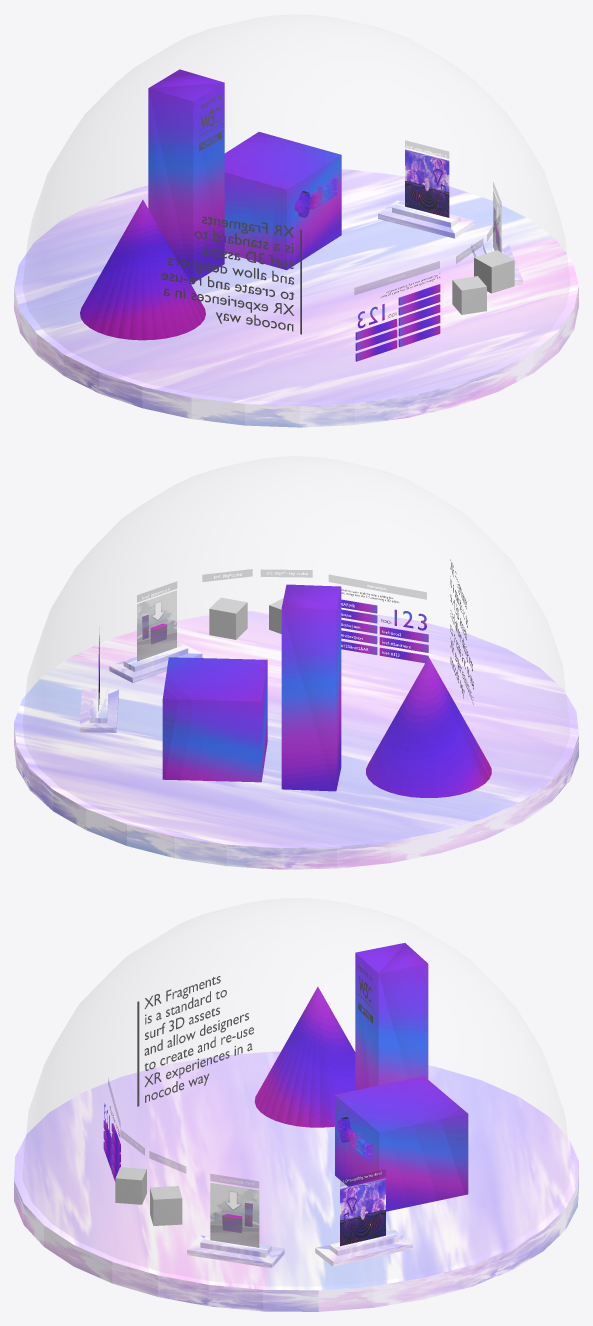
3 renders of one model, top to bottom at view 1: azimuth 30°, elevation 25°; view 2: azimuth 150°, elevation 25°; view 3: azimuth 270°, elevation 25°, orthographic.
Visible parts, largest first — view 1: floorstone, primitives, cube, Text.001, door, step, cube.001, cube.002, logo_nlnet, title_bg.003, step.001; view 2: floorstone, primitives, cube, door.001, step, step.001, cube.001, Text.001, title_bg.003; view 3: floorstone, primitives, cube, door.001, Text.001, door, step.001, step, cube.001, cube.002, logo_nlnet.
Boxes of the visible parts, <box> form: floorstone: <box>14,169,578,427</box>; primitives: <box>80,69,224,340</box>; cube: <box>224,132,341,270</box>; Text.001: <box>161,216,294,331</box>; door: <box>405,149,449,217</box>; step: <box>378,200,474,238</box>; cube.001: <box>474,250,514,293</box>; cube.002: <box>452,276,486,314</box>; logo_nlnet: <box>294,177,338,217</box>; title_bg.003: <box>355,261,439,294</box>; step.001: <box>471,242,522,285</box>; floorstone: <box>14,610,578,869</box>; primitives: <box>281,584,491,797</box>; cube: <box>162,657,267,782</box>; door.001: <box>137,590,176,661</box>; step: <box>79,688,118,732</box>; step.001: <box>109,642,202,682</box>; cube.001: <box>209,597,247,639</box>; Text.001: <box>450,559,473,704</box>; title_bg.003: <box>329,575,426,598</box>; floorstone: <box>14,1051,578,1311</box>; primitives: <box>254,943,428,1127</box>; cube: <box>335,1076,468,1211</box>; door.001: <box>210,1183,259,1247</box>; Text.001: <box>144,976,253,1102</box>; door: <box>340,1178,385,1246</box>; step.001: <box>187,1235,284,1268</box>; step: <box>315,1230,412,1266</box>; cube.001: <box>150,1186,182,1225</box>; cube.002: <box>115,1167,146,1204</box>; logo_nlnet: <box>337,1117,373,1160</box>.
Size of what is drawn, in the model's own units: 20.66 by 10.86 by 20.66.
Materials: 9 (3 with a texture image).
